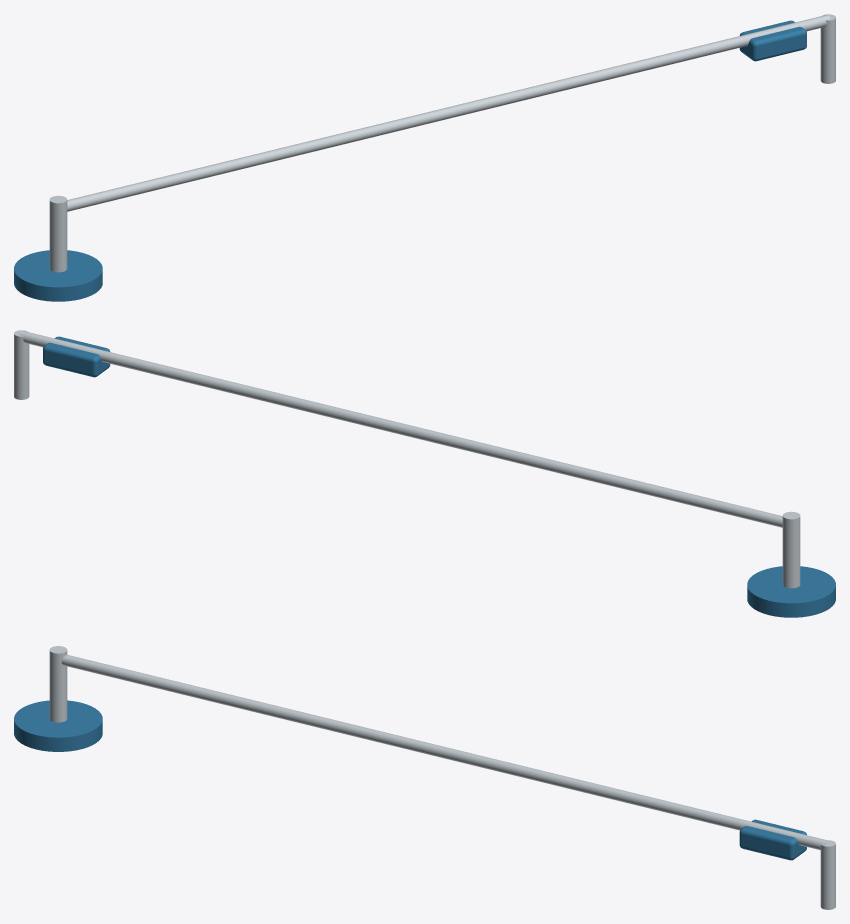
Rendered from curling-club-and-ice-maintenance-stone-measuring-arm-adef8f9a__31278.glb.
3 renders of one model, top to bottom at view 1: azimuth 30°, elevation 25°; view 2: azimuth 150°, elevation 25°; view 3: azimuth 330°, elevation 25°, orthographic.
Visible parts, largest first — view 1: stone-measuring-arm; view 2: stone-measuring-arm; view 3: stone-measuring-arm.
Boxes of the visible parts, <box> form: stone-measuring-arm: <box>14,14,835,301</box>; stone-measuring-arm: <box>14,330,835,617</box>; stone-measuring-arm: <box>14,646,835,909</box>.
Bounding box in the file's own units: 1.48 × 0.145 × 0.1401.
